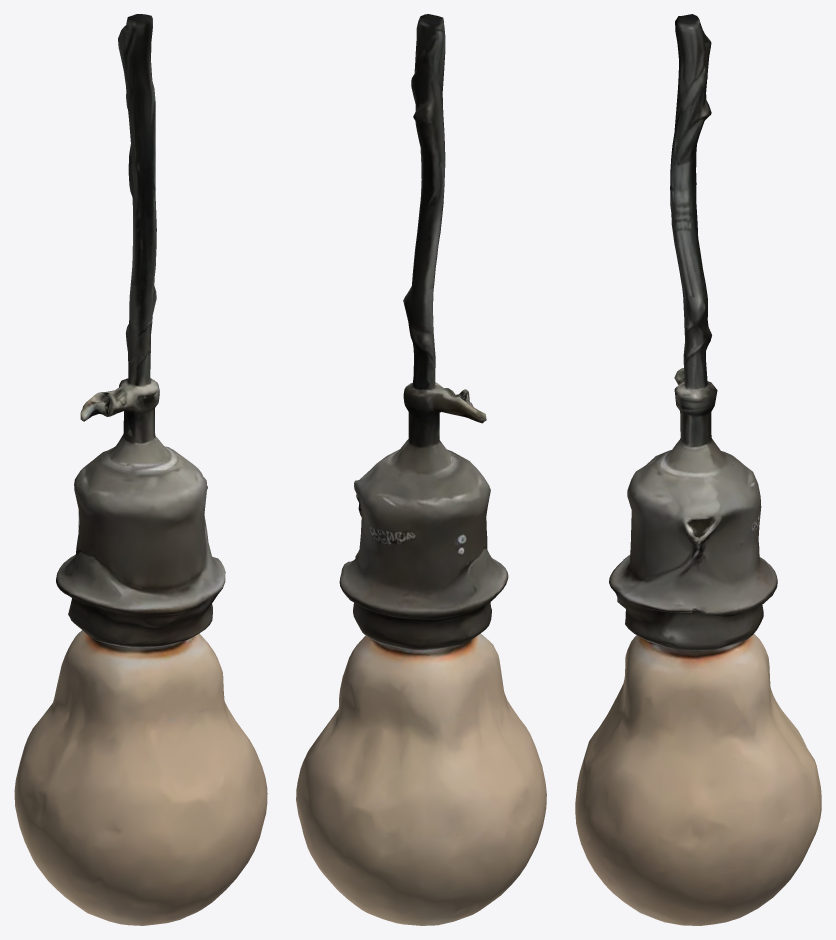
Rendered from lamp_bulb.glb.
The picture shows the model from 3 angles, left to right: view 1: azimuth 30°, elevation 25°; view 2: azimuth 150°, elevation 25°; view 3: azimuth 270°, elevation 25°; orthographic projection.
Parts seen in each view (by area): view 1: tripo_node_cbf8fbf4-7ada-4058-a5d3-757c563e5a85; view 2: tripo_node_cbf8fbf4-7ada-4058-a5d3-757c563e5a85; view 3: tripo_node_cbf8fbf4-7ada-4058-a5d3-757c563e5a85.
Part boxes in pixels (x1=…): tripo_node_cbf8fbf4-7ada-4058-a5d3-757c563e5a85: x1=14, y1=14, x2=267, y2=925; tripo_node_cbf8fbf4-7ada-4058-a5d3-757c563e5a85: x1=296, y1=14, x2=546, y2=925; tripo_node_cbf8fbf4-7ada-4058-a5d3-757c563e5a85: x1=575, y1=14, x2=821, y2=925.
Bounding box in the file's own units: 0.2459 × 0.9998 × 0.2505.
1 material, 1 textured.
